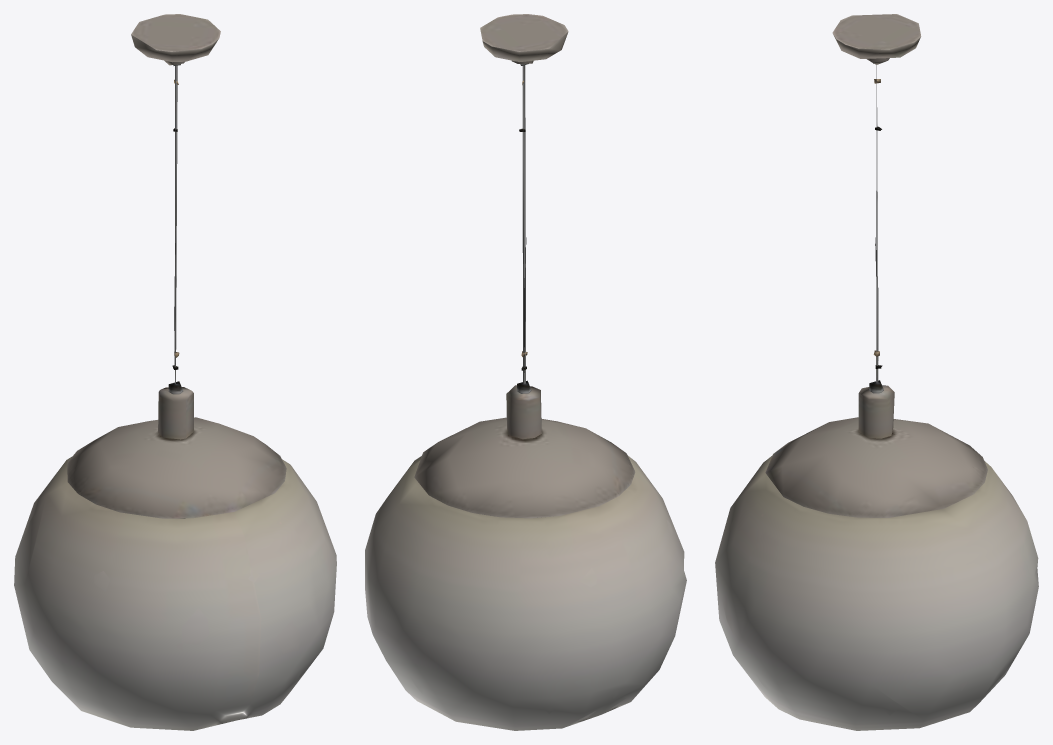
Rendered from modern_ceiling_lamp_01.glb.
3 views of the same model, side by side, from view 1: azimuth 30°, elevation 25°; view 2: azimuth 150°, elevation 25°; view 3: azimuth 270°, elevation 25° (orthographic).
Parts seen in each view (by area): view 1: modern_ceiling_lamp_01; view 2: modern_ceiling_lamp_01; view 3: modern_ceiling_lamp_01.
Boxes of the visible parts, left/top/right/bottom form: modern_ceiling_lamp_01: left=14, top=14, right=336, bottom=730; modern_ceiling_lamp_01: left=365, top=14, right=686, bottom=730; modern_ceiling_lamp_01: left=715, top=14, right=1038, bottom=730.
Bounding box in the file's own units: 0.4288 × 0.9512 × 0.4288.
3 materials, 3 textured.
